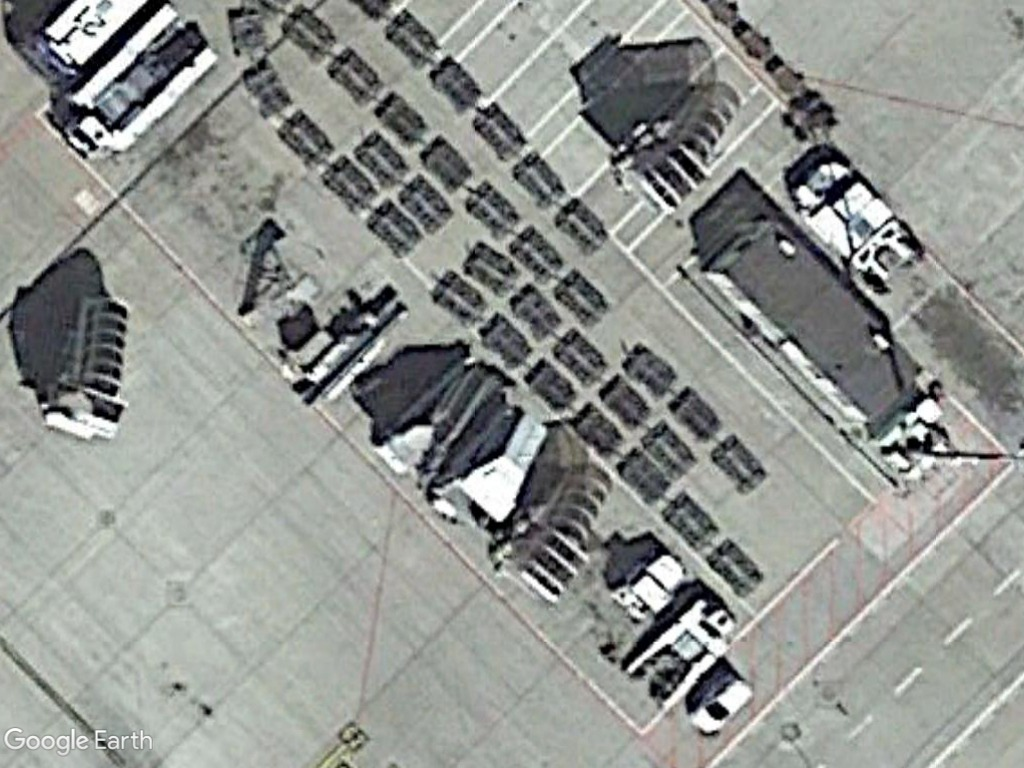pushback: (795, 154, 925, 293), (621, 597, 740, 713)
